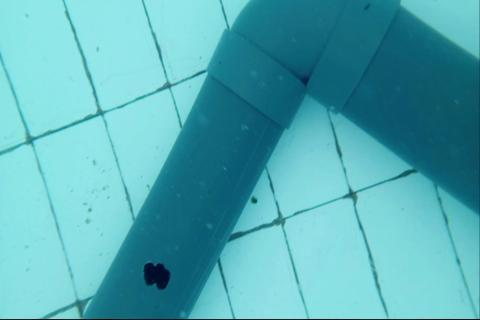kebocoran: (142, 262, 172, 290)
